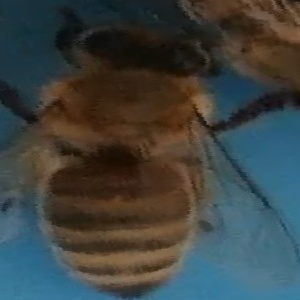bee: (2, 7, 223, 300)
